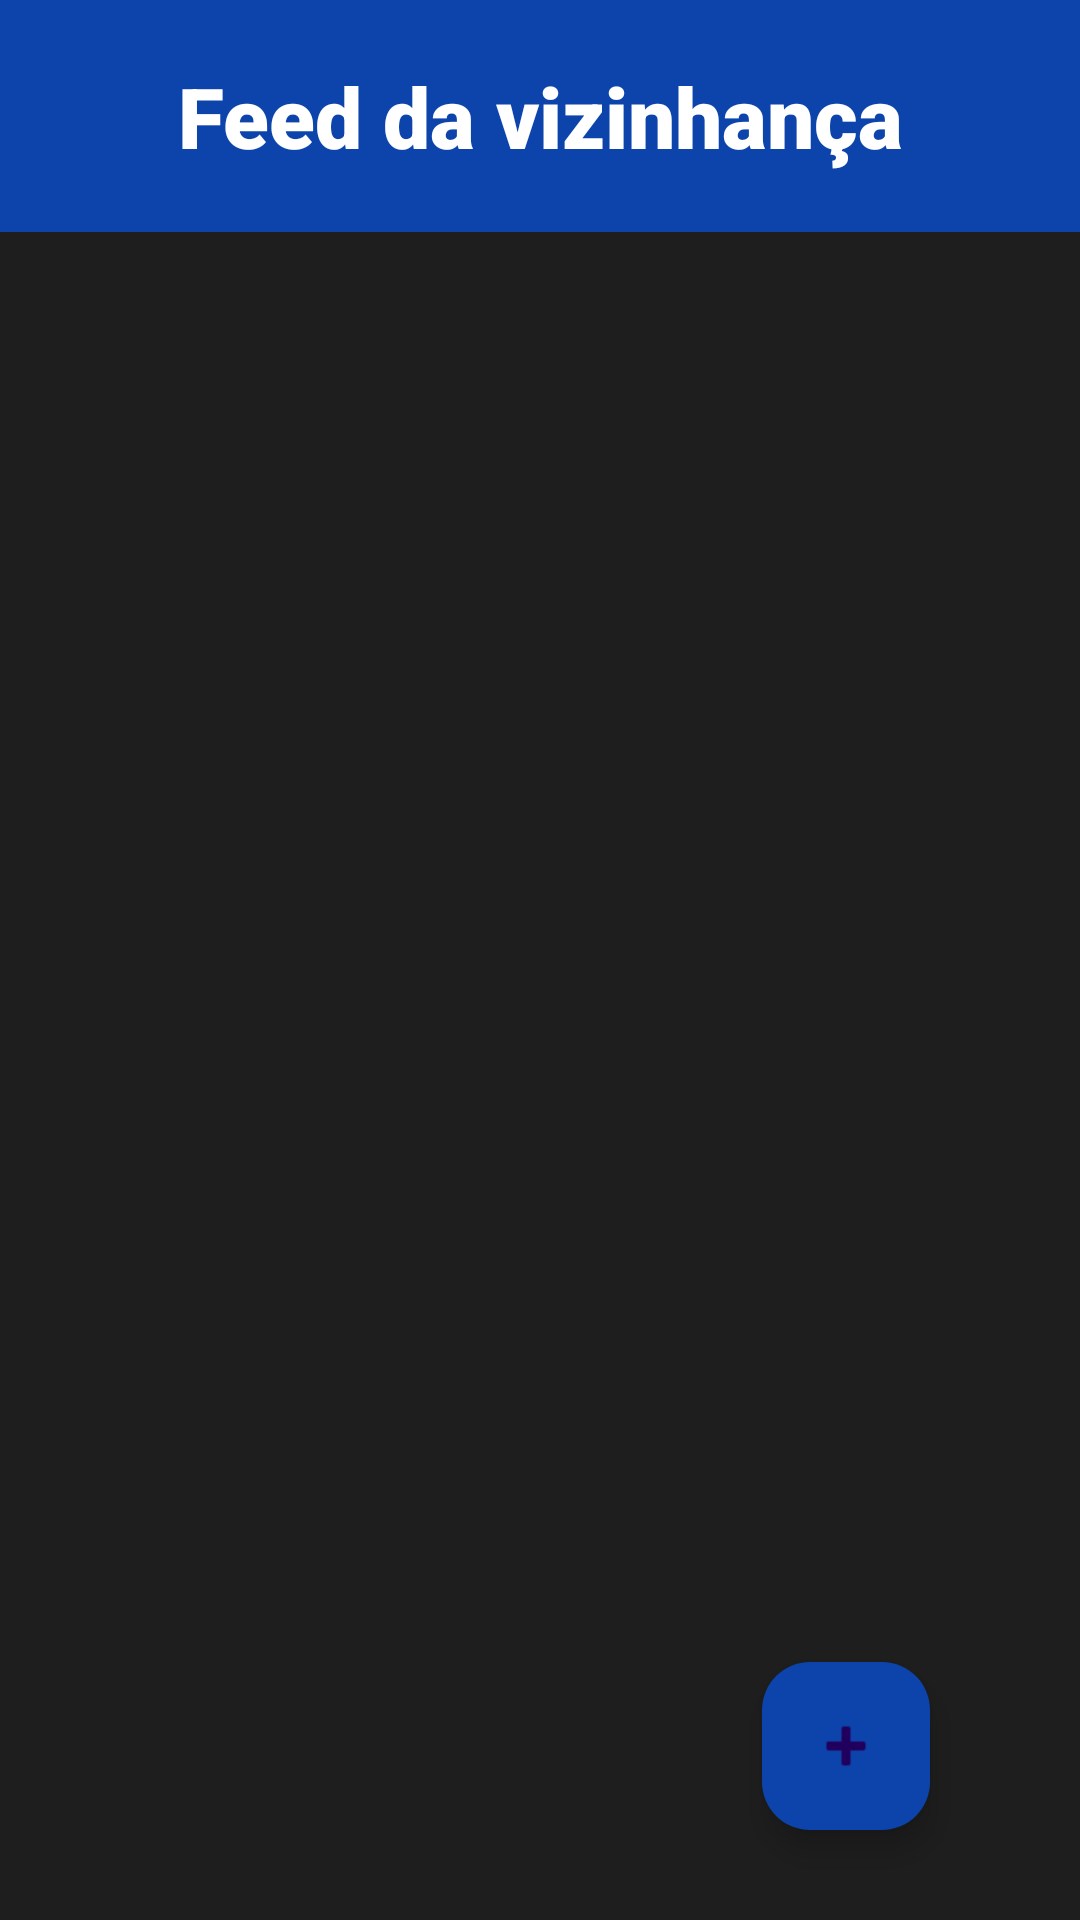

Locate icon controls on the screen. Image size 1080px x 1920px, boxes as (x1, y1, x2, y2).
Botão de nova postagem: (762, 1662, 930, 1830)
